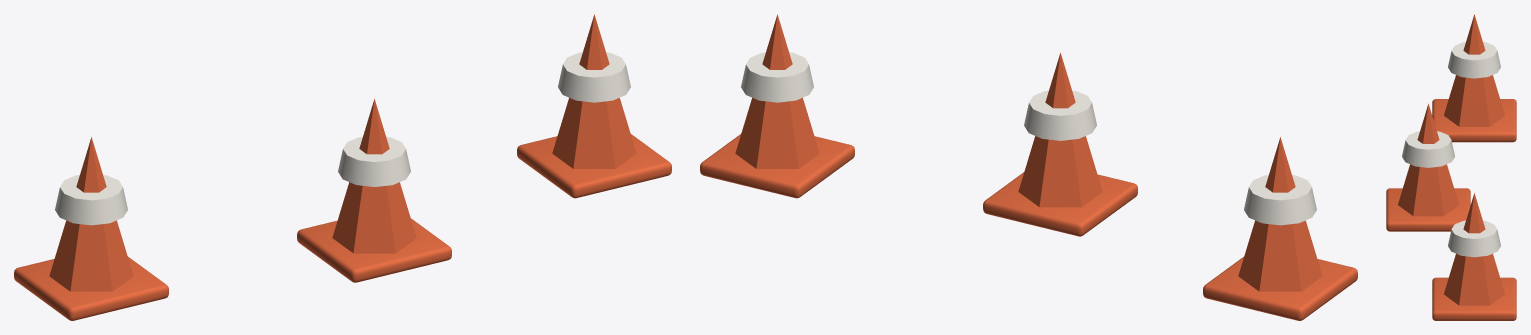
Rendered from conos.fbx.
3 views of the same model, side by side, from view 1: azimuth 30°, elevation 25°; view 2: azimuth 150°, elevation 25°; view 3: azimuth 270°, elevation 25° (orthographic). The views are drawn at different scales.
Parts seen in each view (by area): view 1: cone_04, cone_02, cone_06, cone, cone_03, cone_05, coneBand, coneBand_03, coneBand_02; view 2: cone_04, cone_02, cone_06, cone, cone_03, cone_05, coneBand, coneBand_02, coneBand_03; view 3: cone_04, cone_06, cone_02, cone_05, cone, cone_03, coneBand, coneBand_02, coneBand_03.
Boxes of the visible parts, left/top/right/bottom form: cone_04: left=332, top=99, right=416, bottom=253; cone_02: left=49, top=137, right=133, bottom=291; cone_06: left=552, top=14, right=636, bottom=168; cone: left=14, top=257, right=168, bottom=320; cone_03: left=297, top=218, right=451, bottom=282; cone_05: left=517, top=134, right=671, bottom=198; coneBand: left=55, top=175, right=127, bottom=225; coneBand_03: left=558, top=52, right=630, bottom=102; coneBand_02: left=338, top=136, right=410, bottom=186; cone_04: left=1018, top=52, right=1102, bottom=207; cone_02: left=1238, top=137, right=1322, bottom=291; cone_06: left=735, top=14, right=819, bottom=168; cone: left=1203, top=257, right=1357, bottom=320; cone_03: left=983, top=172, right=1137, bottom=236; cone_05: left=700, top=134, right=854, bottom=198; coneBand: left=1244, top=175, right=1316, bottom=225; coneBand_02: left=1024, top=90, right=1096, bottom=140; coneBand_03: left=741, top=52, right=813, bottom=102; cone_04: left=1398, top=103, right=1458, bottom=216; cone_06: left=1444, top=193, right=1504, bottom=305; cone_02: left=1444, top=14, right=1504, bottom=126; cone_05: left=1432, top=277, right=1516, bottom=320; cone: left=1432, top=99, right=1516, bottom=142; cone_03: left=1386, top=188, right=1470, bottom=231; coneBand: left=1448, top=42, right=1500, bottom=78; coneBand_02: left=1402, top=131, right=1454, bottom=167; coneBand_03: left=1448, top=220, right=1500, bottom=257.
Size of the model in its own units: 2.76 by 0.67 by 0.71.
